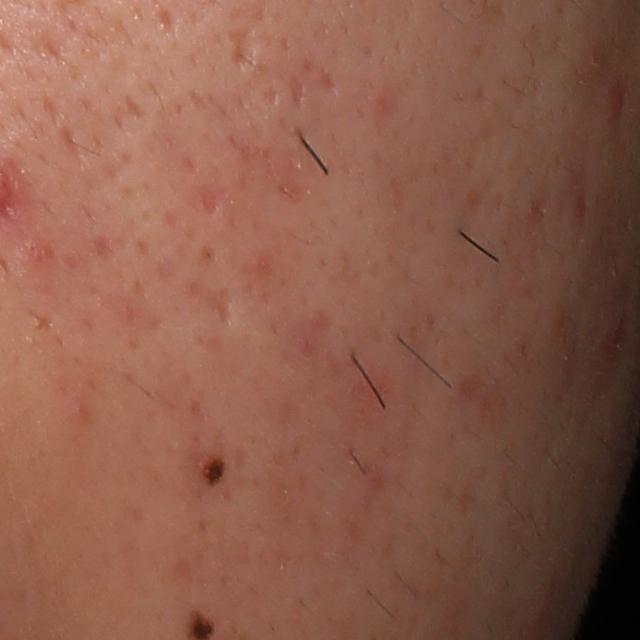atrophic_scar: (191, 276, 237, 330), (226, 23, 260, 68), (156, 7, 182, 45), (310, 62, 338, 93), (289, 73, 309, 116), (60, 121, 83, 158), (128, 92, 146, 122)
nevus: (200, 452, 227, 484)
papule: (604, 79, 628, 117), (603, 316, 626, 354)
